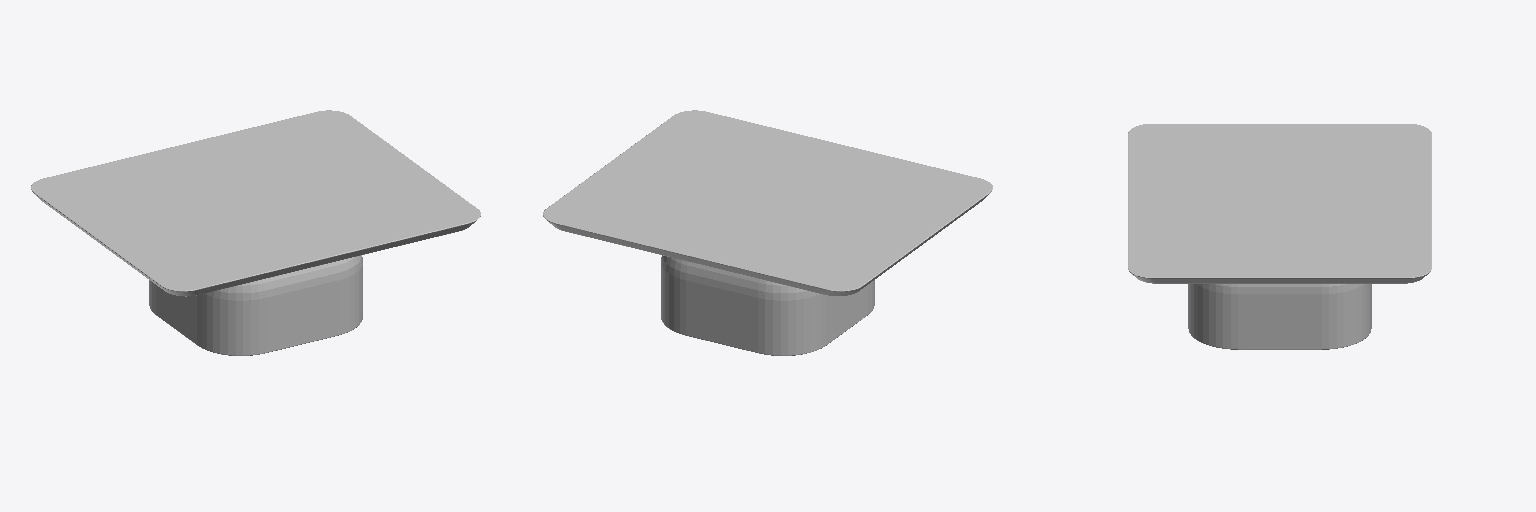
The model's file is nikari-side-table.obj.
3 views of the same model, side by side, from view 1: azimuth 30°, elevation 25°; view 2: azimuth 150°, elevation 25°; view 3: azimuth 270°, elevation 25° (orthographic).
Visible parts, largest first — view 1: Nikari_side_table; view 2: Nikari_side_table; view 3: Nikari_side_table.
Part boxes in pixels (x1,y1,x2,y2): Nikari_side_table: (31, 110, 480, 355); Nikari_side_table: (543, 110, 992, 355); Nikari_side_table: (1128, 124, 1431, 349).
Size of the model in its own units: 59.77 by 20 by 49.8.